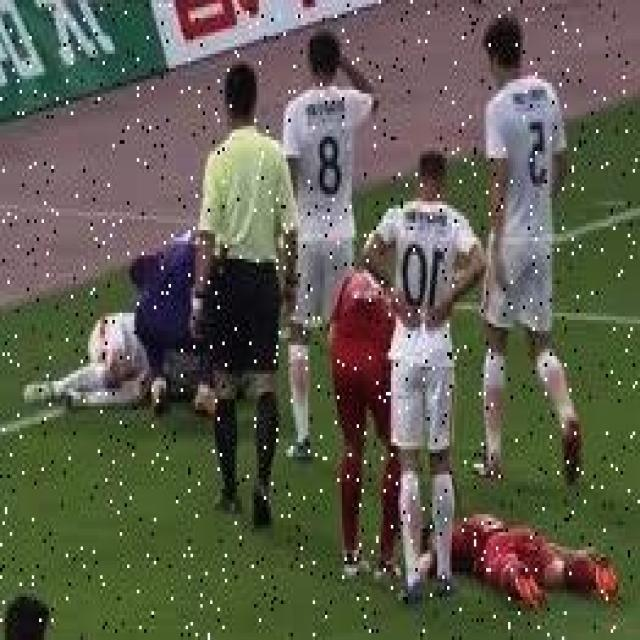fall: (430, 489, 618, 611)
